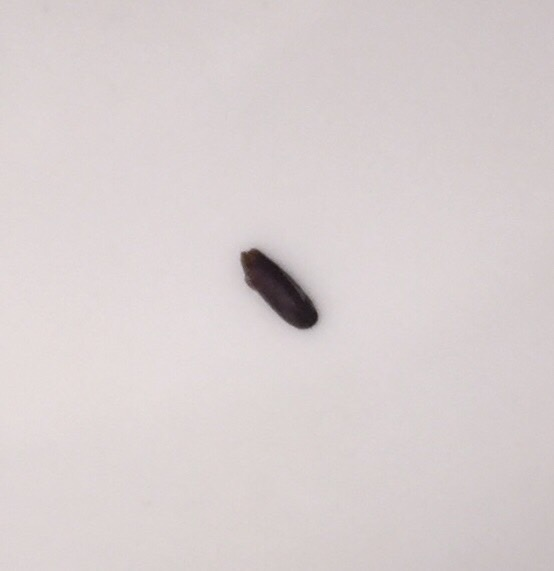Gao Nep Cam: (232, 241, 322, 336)
